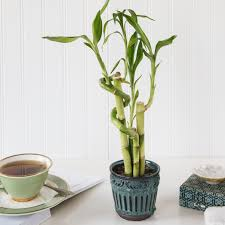bamboo: (80, 3, 180, 164)
